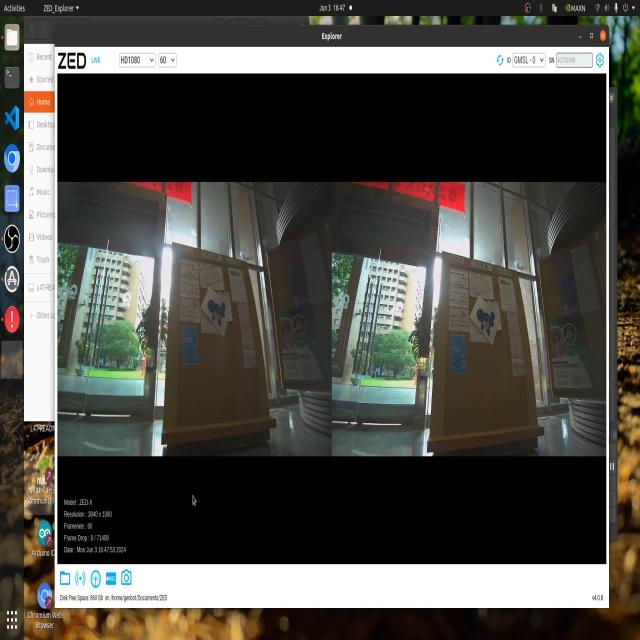blue: (202, 282, 230, 332), (478, 302, 497, 343)
